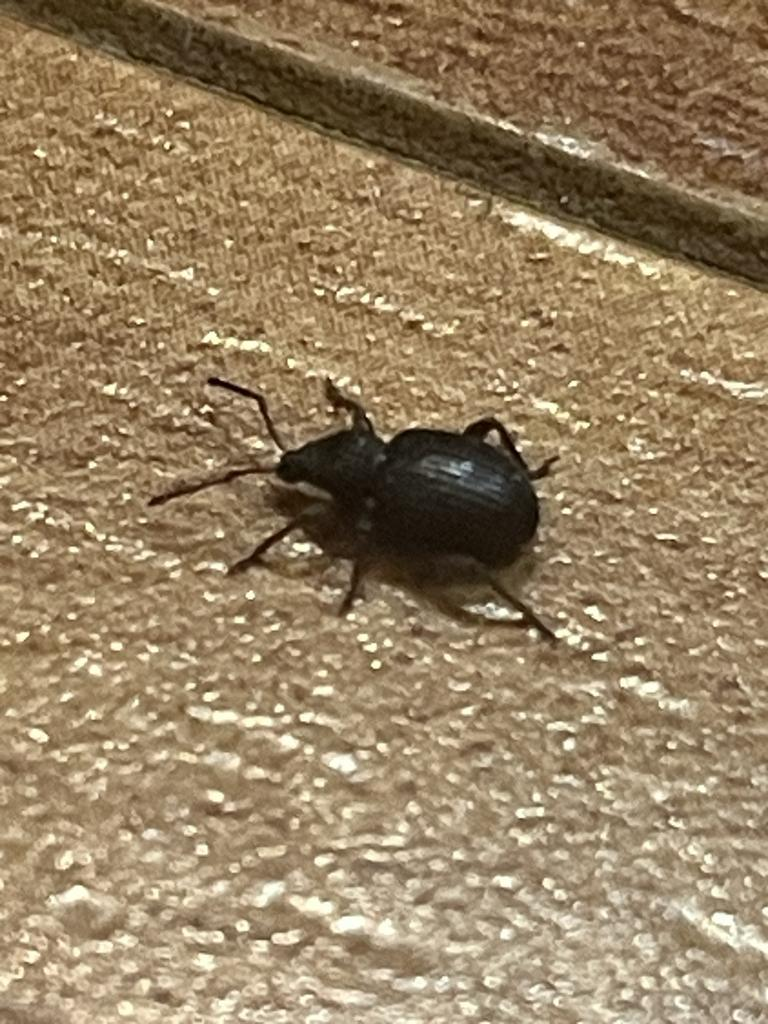weevils: (97, 310, 691, 676)
